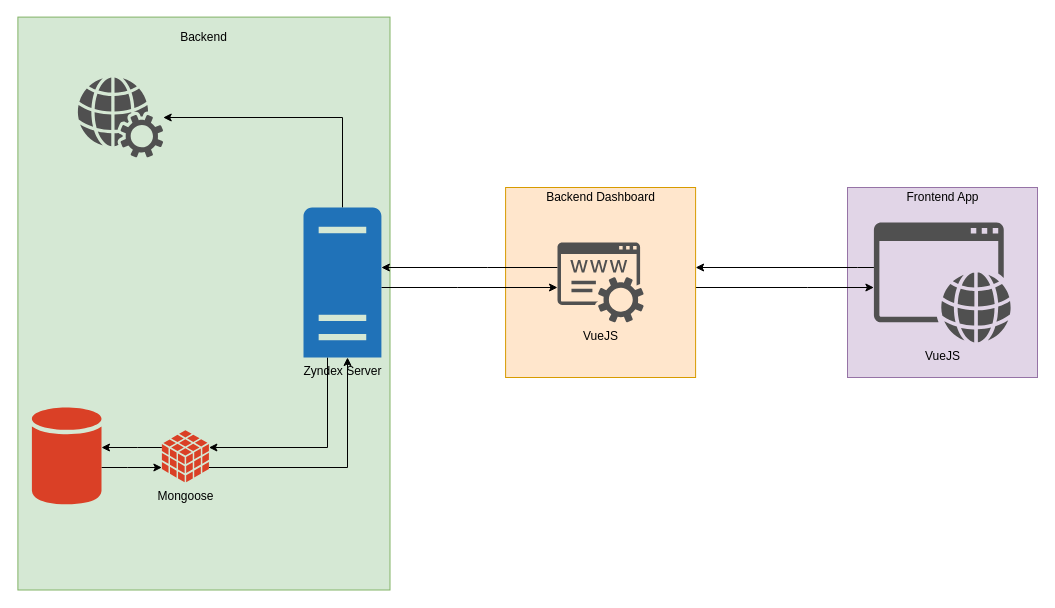
The diagram is 1055 pixels wide and 608 high, and some of its shapes have lost their labels. Each missing label, with the centre of its shape:
ExpressJS: point (120, 117)
Mongo DB: point (66, 455)
